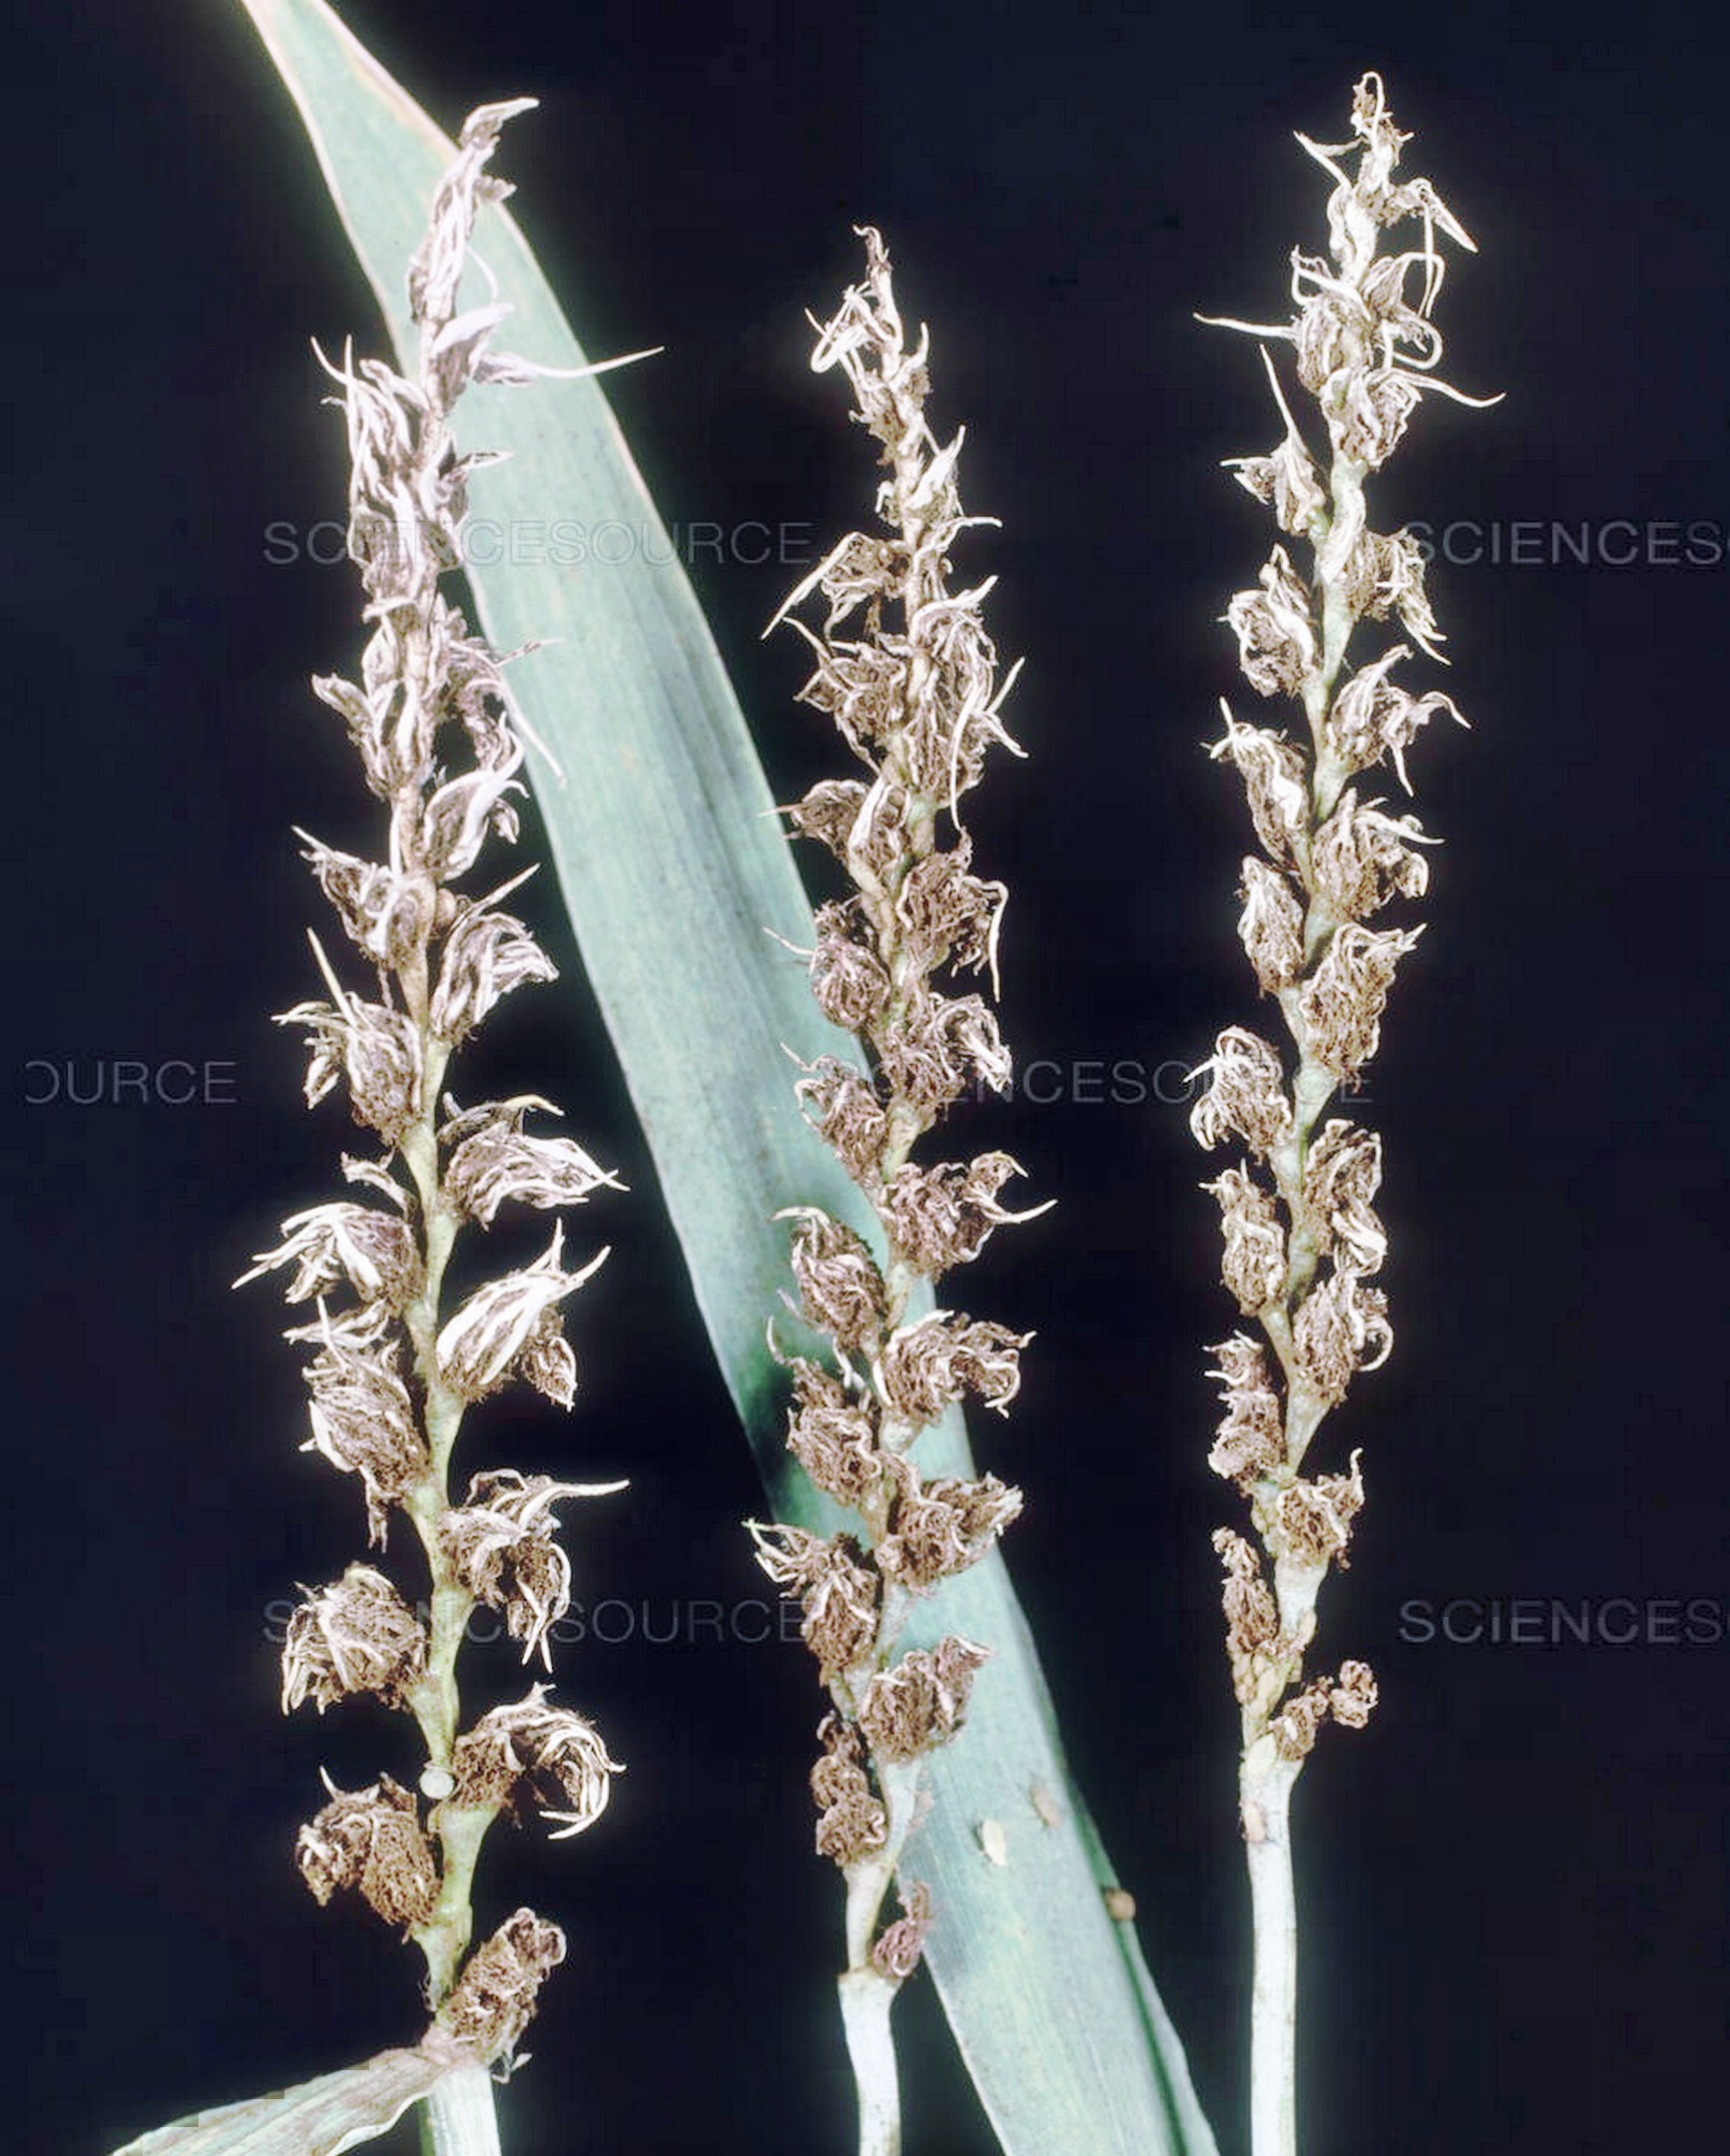Wheat Loose Smut: (1112, 108, 1525, 1766), (251, 282, 637, 2020), (750, 203, 1063, 1962)
